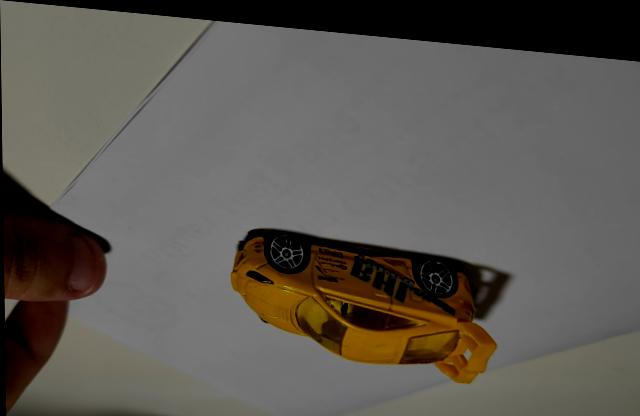07_RHLTURBO: (229, 222, 497, 373)
